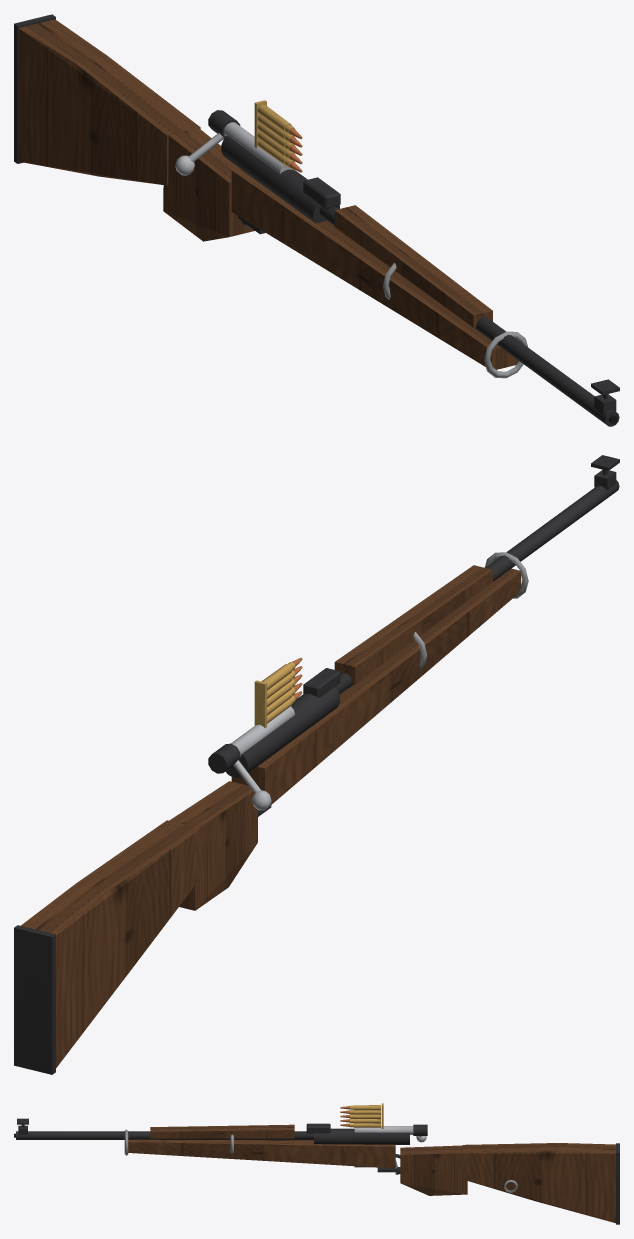
The model's file is OB_Karabin_Kar98k.fbx.
The picture shows the model from 3 angles, top to bottom: view 1: azimuth 30°, elevation 25°; view 2: azimuth 150°, elevation 25°; view 3: azimuth 270°, elevation 25°; orthographic projection. The views are drawn at different scales.
Parts seen in each view (by area): view 1: Bron, Lodka, Zamek; view 2: Bron, Zamek, Lodka; view 3: Bron, Lodka, Zamek.
Part boxes in pixels (<box>): Bron: <box>14,14,619,426</box>; Lodka: <box>254,100,302,172</box>; Zamek: <box>175,110,294,175</box>; Bron: <box>14,455,619,1074</box>; Zamek: <box>208,706,294,810</box>; Lodka: <box>254,657,302,728</box>; Bron: <box>14,1118,619,1224</box>; Lodka: <box>340,1103,383,1128</box>; Zamek: <box>354,1124,427,1142</box>.
Bounding box in the file's own units: 0.0865 × 0.265 × 1.26.
